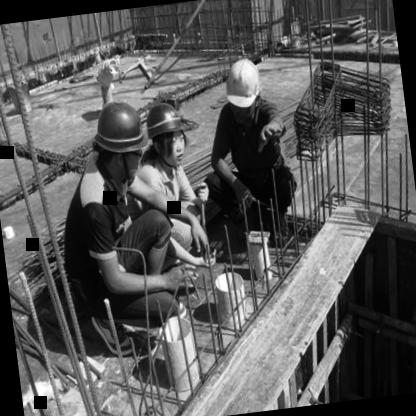helmet: (89, 93, 154, 182), (220, 52, 270, 127), (143, 96, 192, 171)
